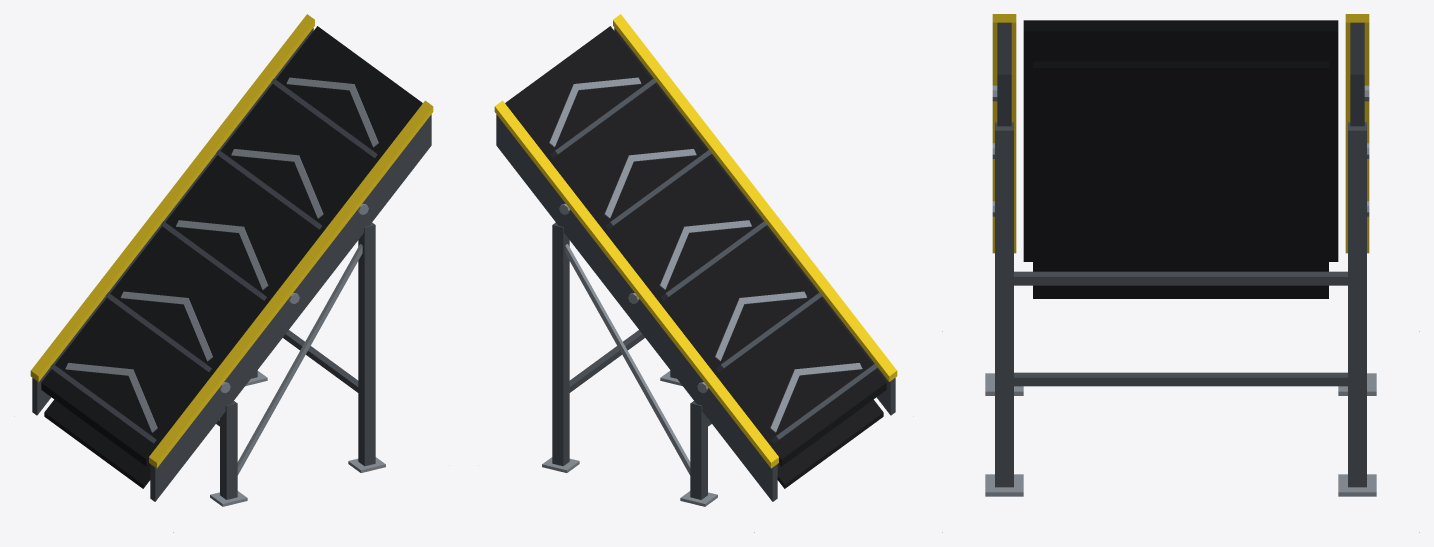
File: convoyeur_rampe_t1.glb
The picture shows the model from 3 angles, left to right: view 1: azimuth 30°, elevation 25°; view 2: azimuth 150°, elevation 25°; view 3: azimuth 270°, elevation 25°; orthographic projection. The views are drawn at different scales.
Visible parts, largest first — view 1: bande_porteuse.024, longeron_-1.024, pieces_acier_sombre.016, rive_-1.024, rive_1.024, bande_acier.042, bande_acier_sombre.004, pieces_acier.048, bande_retour.024, longeron_1.024; view 2: bande_porteuse.024, longeron_1.024, pieces_acier_sombre.016, rive_1.024, rive_-1.024, bande_acier.042, bande_acier_sombre.004, pieces_acier.048, bande_retour.024, longeron_-1.024; view 3: bande_retour.024, pieces_acier_sombre.016, bande_porteuse.024, pieces_acier.048, rive_1.024, rive_-1.024, longeron_1.024, longeron_-1.024.
Part boxes in pixels (x1,y1,x2,y2): bande_porteuse.024: (41,26,422,466); longeron_-1.024: (150,114,431,501); pieces_acier_sombre.016: (216,222,375,499); rive_-1.024: (149,100,433,468); rive_1.024: (30,14,314,381); bande_acier.042: (65,77,378,432); bande_acier_sombre.004: (50,78,377,443); pieces_acier.048: (210,203,385,506); bande_retour.024: (44,399,150,488); longeron_1.024: (32,28,313,415); bande_porteuse.024: (505,26,886,466); longeron_1.024: (496,114,777,501); pieces_acier_sombre.016: (552,222,711,499); rive_1.024: (494,100,778,468); rive_-1.024: (613,14,897,381); bande_acier.042: (549,77,862,432); bande_acier_sombre.004: (550,78,877,443); pieces_acier.048: (542,203,717,506); bande_retour.024: (777,399,883,488); longeron_-1.024: (614,28,895,415); bande_retour.024: (1033,61,1328,298); pieces_acier_sombre.016: (995,122,1366,487); bande_porteuse.024: (1023,20,1338,261); pieces_acier.048: (985,85,1376,496); rive_1.024: (1345,14,1369,253); rive_-1.024: (992,14,1016,253); longeron_1.024: (1350,22,1364,126); longeron_-1.024: (997,22,1011,126).
Bounding box in the file's own units: 1 × 1.2 × 1.
